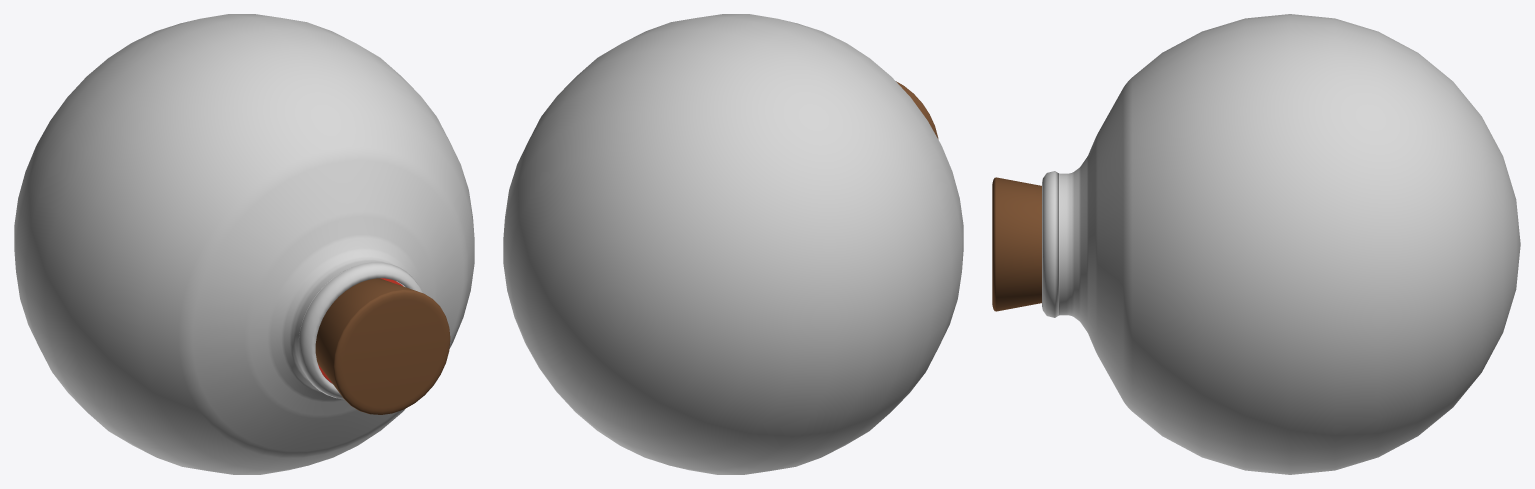
The model's file is HealthSmall.fbx.
3 views of the same model, side by side, from view 1: azimuth 30°, elevation 25°; view 2: azimuth 150°, elevation 25°; view 3: azimuth 270°, elevation 25° (orthographic).
Visible parts, largest first — view 1: Small_red, sr_cork; view 2: Small_red; view 3: Small_red, sr_cork.
Boxes of the visible parts, bbox=[...] form: Small_red: bbox=[14, 14, 474, 474]; sr_cork: bbox=[315, 278, 450, 414]; Small_red: bbox=[503, 14, 963, 474]; Small_red: bbox=[1042, 14, 1520, 474]; sr_cork: bbox=[992, 177, 1041, 311].
Bounding box in the file's own units: 45.75 × 45.88 × 52.59.
